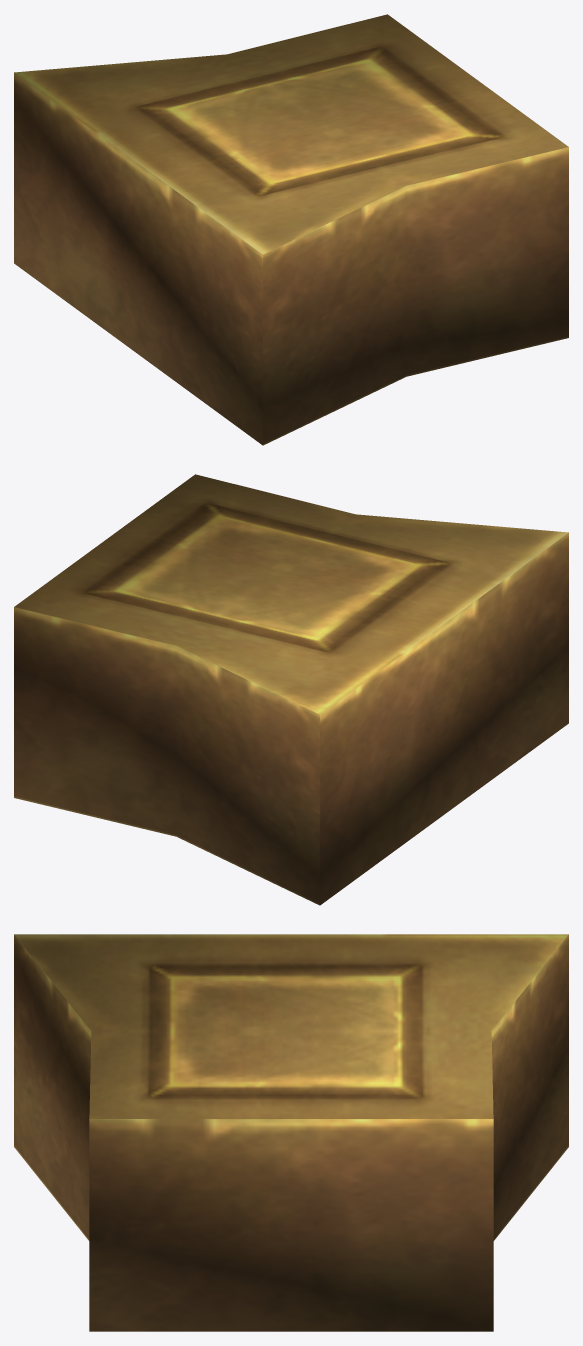
File: G_hulan001.fbx
The picture shows the model from 3 angles, top to bottom: view 1: azimuth 30°, elevation 25°; view 2: azimuth 150°, elevation 25°; view 3: azimuth 270°, elevation 25°; orthographic projection. The views are drawn at different scales.
Visible parts, largest first — view 1: G_hulan001; view 2: G_hulan001; view 3: G_hulan001.
Part boxes in pixels (<box>): G_hulan001: <box>14,14,568,445</box>; G_hulan001: <box>14,474,568,905</box>; G_hulan001: <box>14,934,568,1331</box>.
Bounding box in the file's own units: 41 × 22.02 × 52.03.
